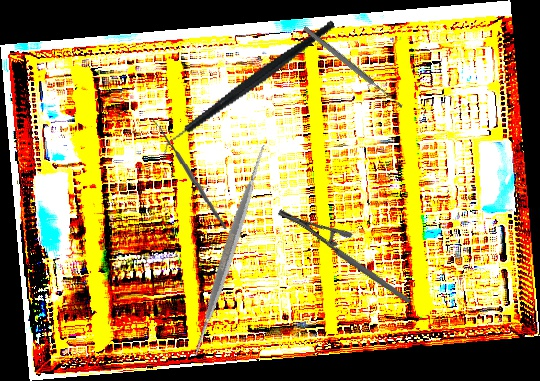Chopper: (137, 18, 358, 164)
Hook Surgical: (144, 114, 228, 233)
Needle Holder: (275, 178, 412, 335)
Spatula Surgical: (118, 139, 342, 362)
Surgical Spoon: (301, 25, 405, 110)
